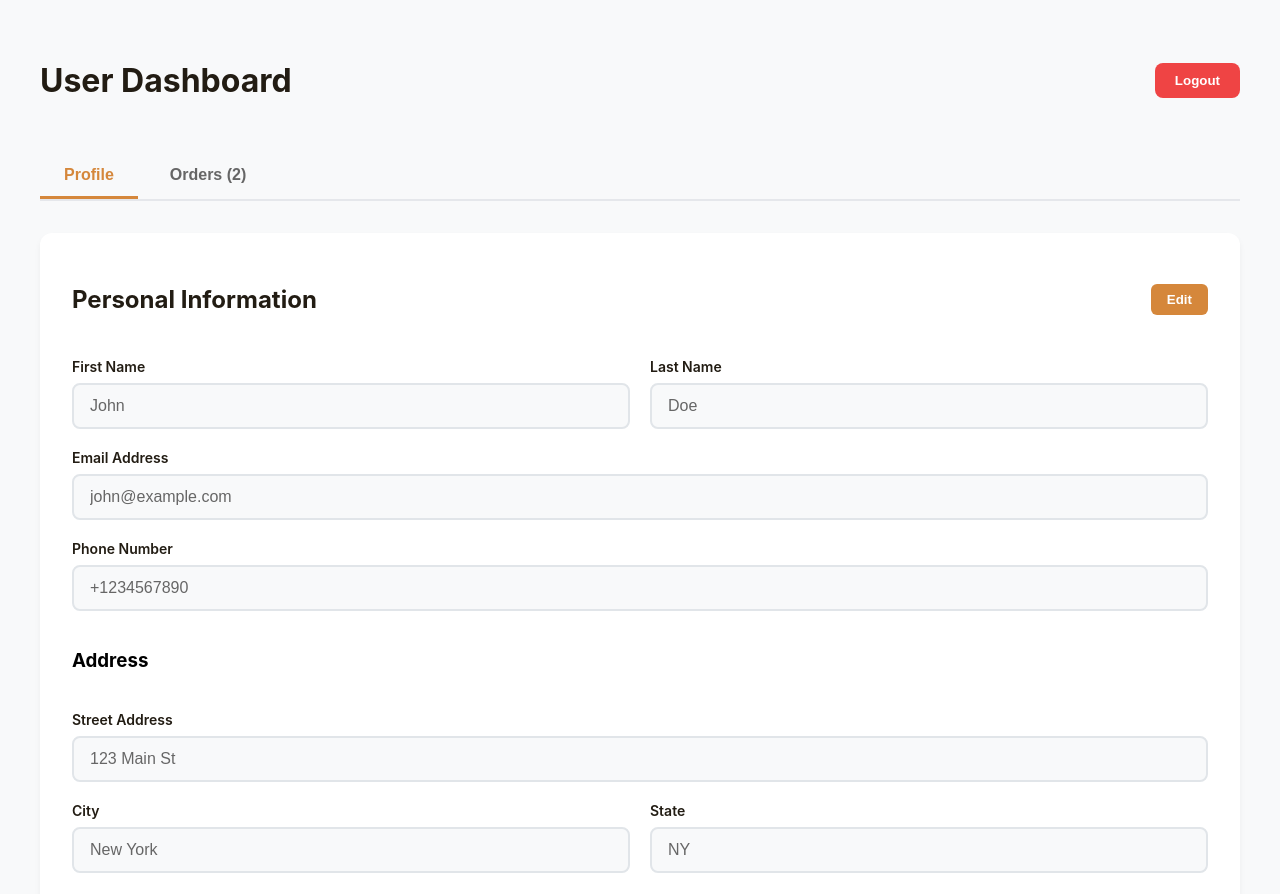
Test: DashboardPage › enables form editing when edit button is clicked
Click the button "Edit" at (1179, 299), box x1=1151 y1=284 x2=1208 y2=315
(page scrolled)
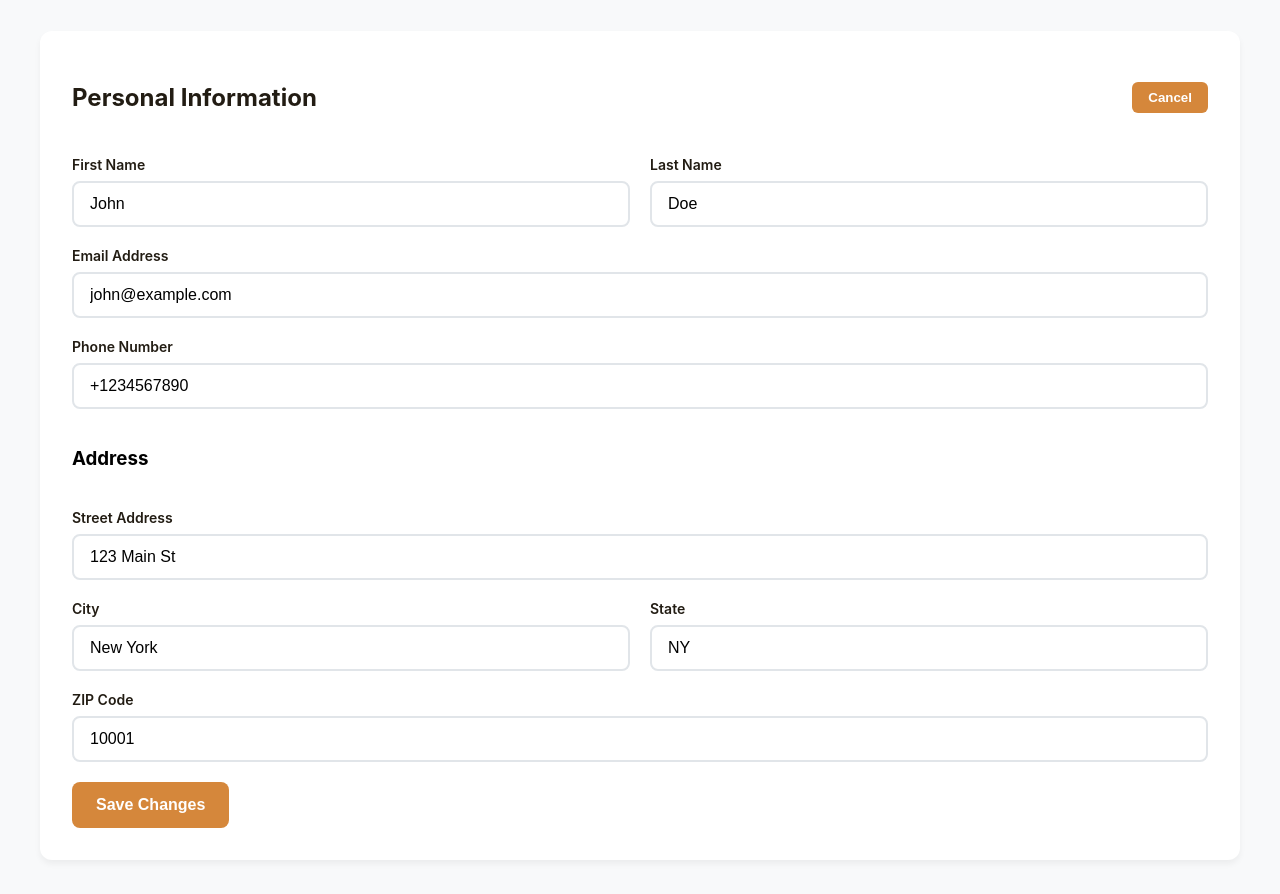
Check: the button "Cancel" is shown, box x1=1132 y1=82 x2=1208 y2=113
Check: the button "Save Changes" is shown, box x1=72 y1=782 x2=229 y2=828
